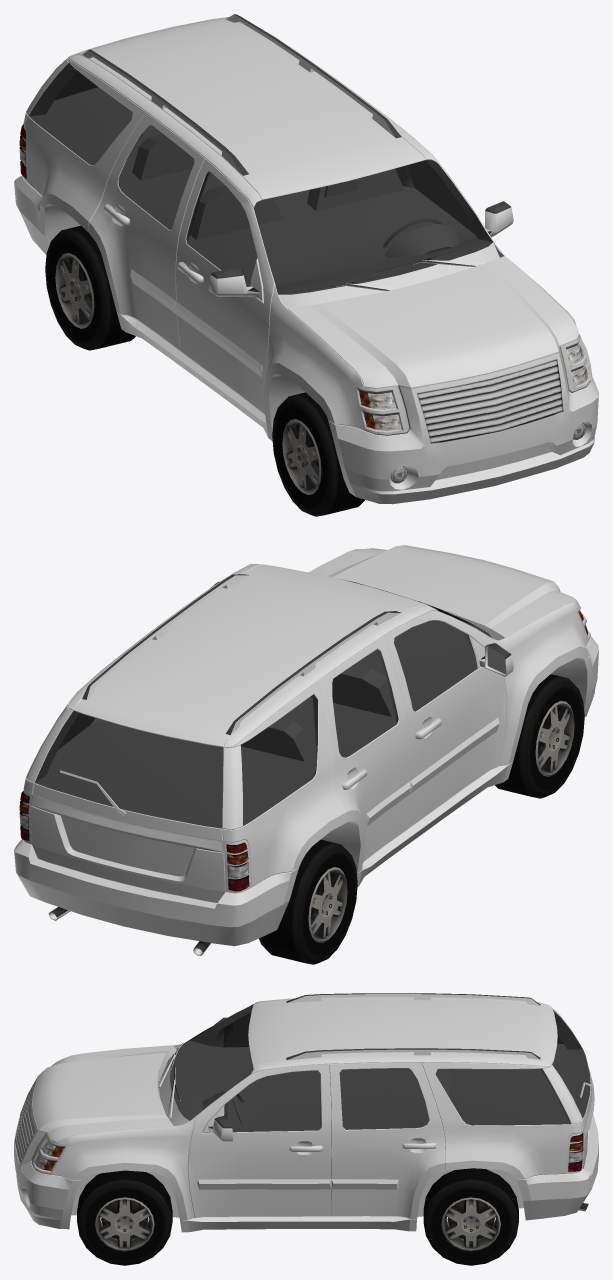
File: landcruiser-1.glb
3 views of the same model, one above another, from view 1: azimuth 30°, elevation 25°; view 2: azimuth 150°, elevation 25°; view 3: azimuth 270°, elevation 25° (orthographic). The views are drawn at different scales.
Visible parts, largest first — view 1: body, wheel_rr, wheel_fr; view 2: body, wheel_rr, wheel_fr; view 3: body, wheel_rl, wheel_fl.
Part boxes in pixels (x1=…): body: x1=14, y1=14, x2=598, y2=504; wheel_rr: x1=45, y1=225, x2=135, y2=350; wheel_fr: x1=272, y1=392, x2=364, y2=516; body: x1=14, y1=545, x2=598, y2=955; wheel_rr: x1=259, y1=839, x2=357, y2=964; wheel_fr: x1=495, y1=674, x2=584, y2=798; body: x1=14, y1=993, x2=598, y2=1232; wheel_rl: x1=423, y1=1168, x2=518, y2=1265; wheel_fl: x1=77, y1=1170, x2=172, y2=1265.
Size of the model in its own units: 2.22 by 1.86 by 4.95.
5 materials, 3 textured.
